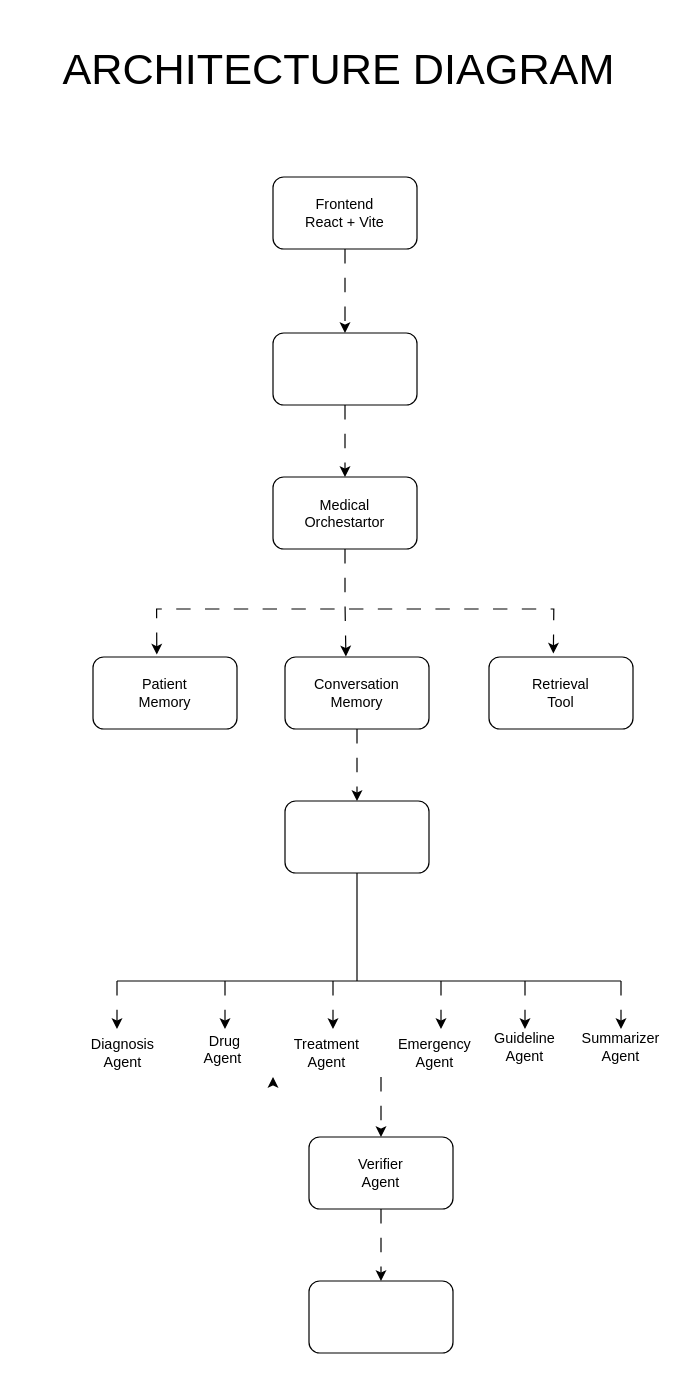
Image size: 680x1374. Some labels were removed from this diagram. Here are the shapes that lost their labels. From the top down, the centre of each, then its label:
At [344,368]: "FastAPI Backend".
At [356,836]: "Specialized Agents".
At [380,1316]: "Gemini/Groq LLM".
